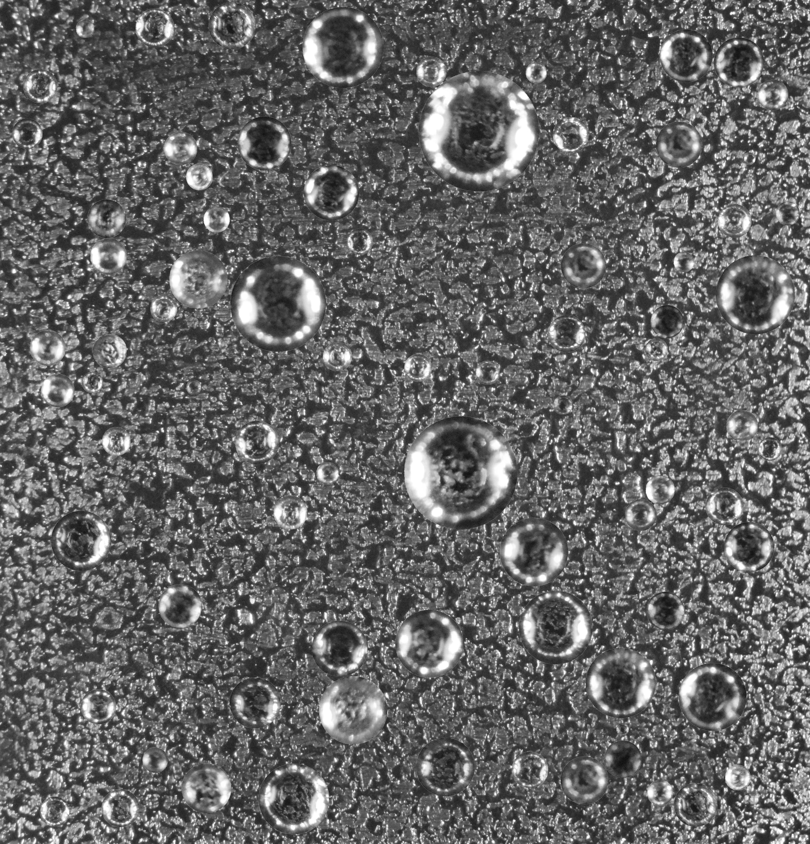Bubble: (418, 71, 539, 191), (404, 416, 517, 529), (230, 256, 325, 351), (302, 6, 383, 87), (716, 255, 794, 334), (519, 590, 592, 664), (258, 763, 329, 834), (585, 648, 655, 718), (499, 517, 568, 586), (319, 676, 387, 744), (395, 609, 463, 677), (678, 663, 746, 730), (51, 510, 111, 570), (416, 737, 474, 796), (169, 250, 227, 308), (311, 620, 367, 676), (303, 165, 359, 220), (237, 116, 291, 170), (659, 29, 712, 82), (229, 677, 280, 728), (724, 522, 774, 572), (181, 763, 231, 813), (714, 37, 764, 87), (560, 756, 608, 804), (208, 2, 255, 49), (656, 121, 702, 167), (561, 243, 606, 288), (235, 420, 278, 464), (158, 584, 201, 627), (674, 783, 717, 826), (135, 8, 174, 47), (87, 199, 125, 237), (101, 789, 139, 827), (705, 487, 743, 525), (646, 591, 684, 629), (604, 740, 641, 777), (548, 315, 585, 352), (511, 751, 548, 788), (90, 238, 126, 274), (552, 117, 588, 152), (29, 330, 65, 365), (80, 689, 115, 724), (92, 334, 126, 368), (273, 495, 307, 529), (23, 69, 57, 102), (41, 373, 74, 407), (164, 131, 197, 164), (650, 305, 683, 338), (718, 204, 751, 237), (726, 410, 758, 441), (757, 79, 788, 110), (625, 499, 656, 530), (12, 118, 42, 148), (39, 796, 69, 826), (416, 56, 446, 86), (645, 475, 674, 504), (322, 342, 351, 371), (102, 427, 130, 455), (404, 354, 431, 381), (150, 295, 177, 321), (186, 163, 212, 190), (346, 228, 372, 254), (203, 206, 229, 232), (647, 780, 673, 805), (142, 747, 167, 772), (725, 765, 750, 790), (475, 360, 499, 384), (776, 201, 799, 225), (758, 437, 781, 460), (316, 462, 338, 484), (645, 338, 667, 360), (525, 62, 546, 83), (673, 251, 694, 272), (81, 371, 102, 392), (553, 395, 572, 414), (75, 19, 94, 37), (186, 379, 201, 394), (480, 582, 494, 596), (743, 152, 755, 164), (616, 723, 628, 735)
